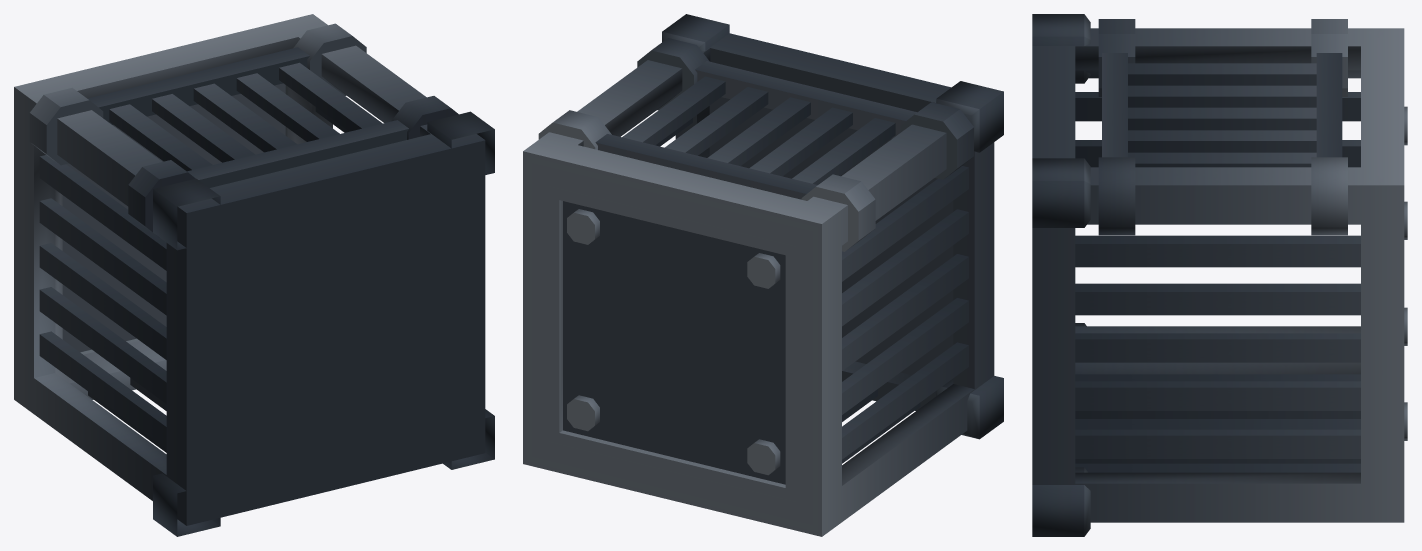
File: Cage.FBX
3 views of the same model, side by side, from view 1: azimuth 30°, elevation 25°; view 2: azimuth 150°, elevation 25°; view 3: azimuth 270°, elevation 25° (orthographic). The views are drawn at different scales.
Visible parts, largest first — view 1: Cage, Cage Gate; view 2: Cage, Cage Gate; view 3: Cage, Cage Gate.
Boxes of the visible parts, x1,y1,x2,y2 form: Cage: (14,14,494,536); Cage Gate: (29,47,408,237); Cage: (523,14,1003,536); Cage Gate: (595,61,973,251); Cage: (1032,14,1407,536); Cage Gate: (1098,19,1347,167).
Size of the model in its own units: 224 by 212 by 222.
1 material, 1 textured.
